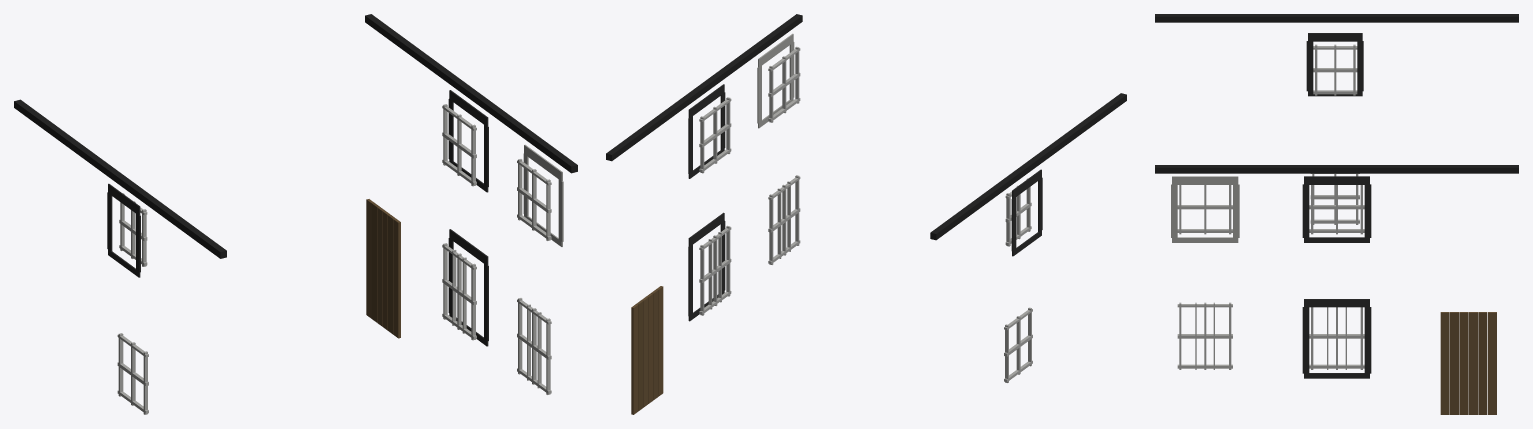
The model's file is SM_Bld_087_Wood.glb.
The picture shows the model from 3 angles, left to right: view 1: azimuth 30°, elevation 25°; view 2: azimuth 150°, elevation 25°; view 3: azimuth 270°, elevation 25°; orthographic projection. The views are drawn at different scales.
Visible parts, largest first — view 1: SM_Bld_087_Wood; view 2: SM_Bld_087_Wood; view 3: SM_Bld_087_Wood.
Boxes of the visible parts, <box> form: SM_Bld_087_Wood: <box>14,14,577,414</box>; SM_Bld_087_Wood: <box>606,14,1126,414</box>; SM_Bld_087_Wood: <box>1155,14,1518,414</box>.
Bounding box in the file's own units: 6.63 × 5.1 × 6.63.
